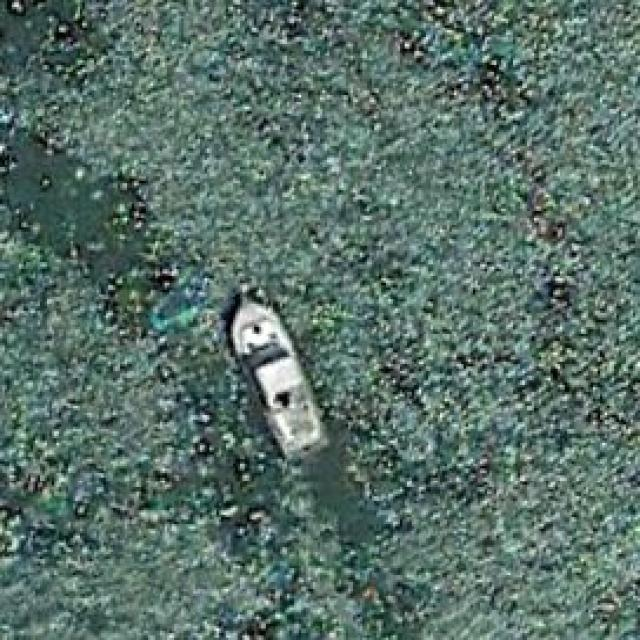ship: (226, 292, 327, 462)
